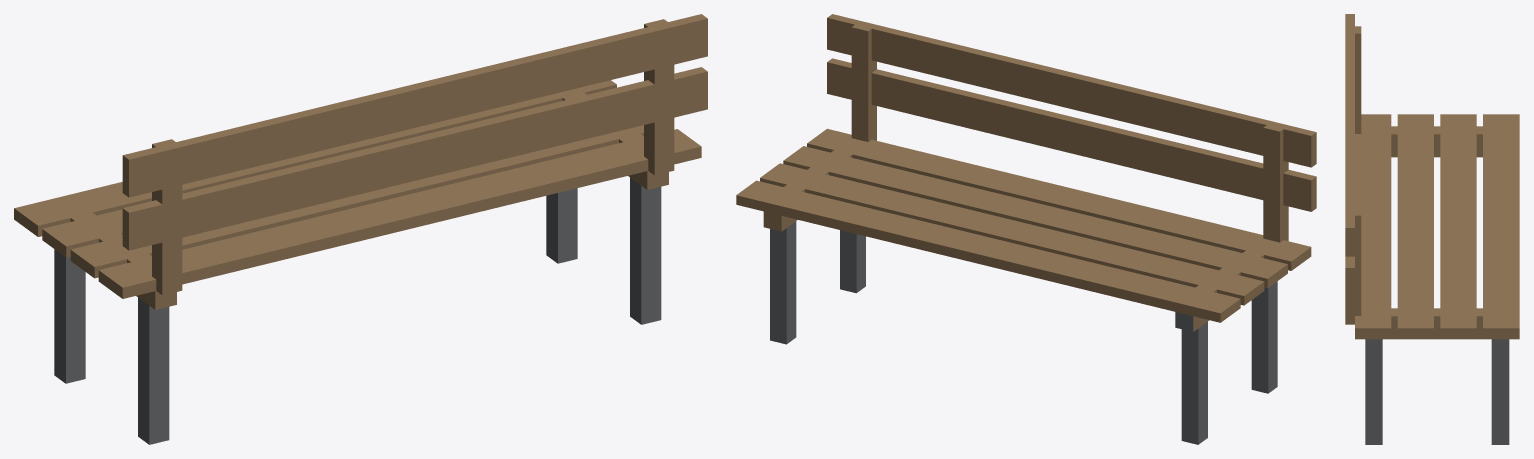
The model's file is collapsed_bench.glb.
3 renders of one model, left to right at view 1: azimuth 30°, elevation 25°; view 2: azimuth 150°, elevation 25°; view 3: azimuth 270°, elevation 25°, orthographic. The views are drawn at different scales.
Visible parts, largest first — view 1: collapsed_bench; view 2: collapsed_bench; view 3: collapsed_bench.
Part boxes in pixels (x1=…): collapsed_bench: x1=14, y1=14, x2=707, y2=444; collapsed_bench: x1=736, y1=14, x2=1316, y2=444; collapsed_bench: x1=1345, y1=14, x2=1519, y2=444.
Size of the model in its own units: 1.6 by 0.8 by 0.55.
